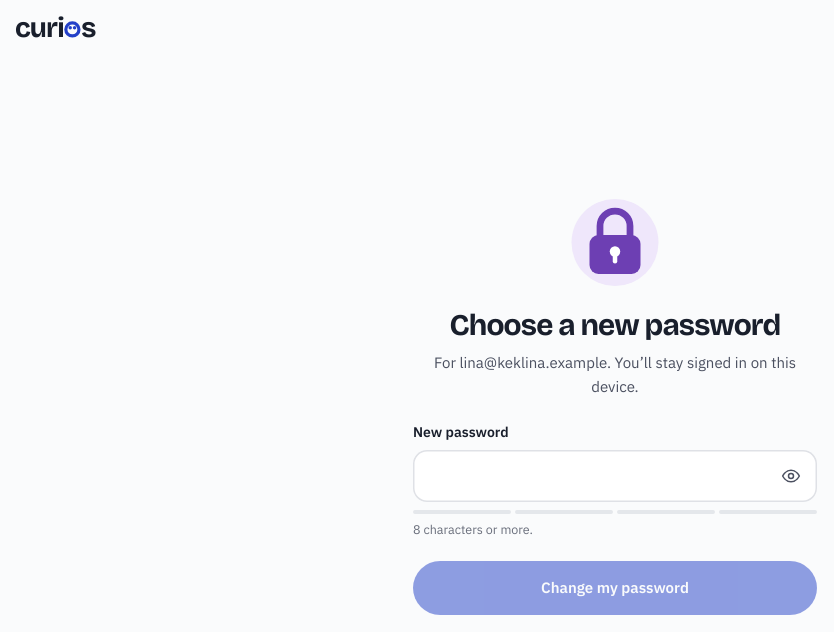
Test: ResetForm › confirms, and goes straight to the page
The width and height of the screenshot is (834, 632).
Type "a-long-enough-passphrase" into the password field labelled "New password" at (600, 476), box top-left (429, 452), bottom-right (771, 500)
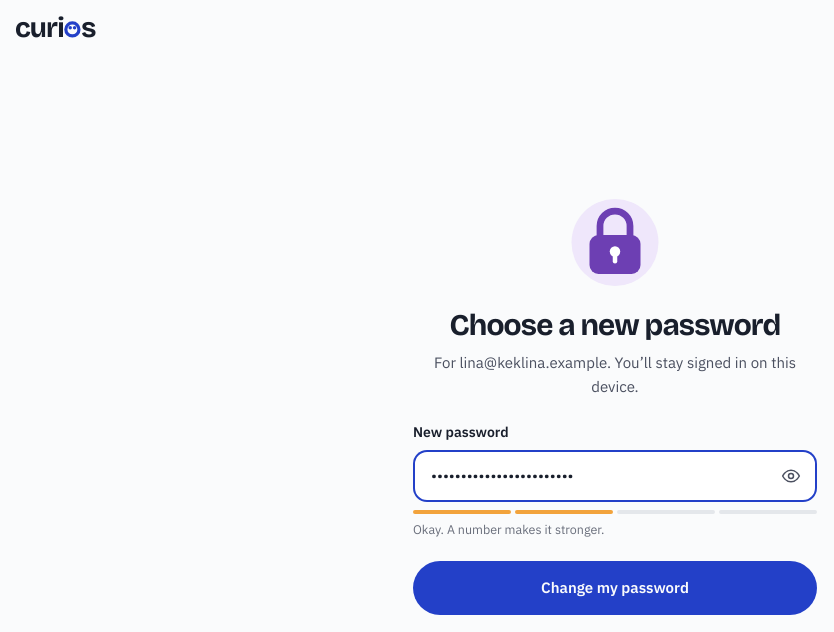
Click the button "Change my password" at (615, 588), box top-left (413, 561), bottom-right (817, 615)
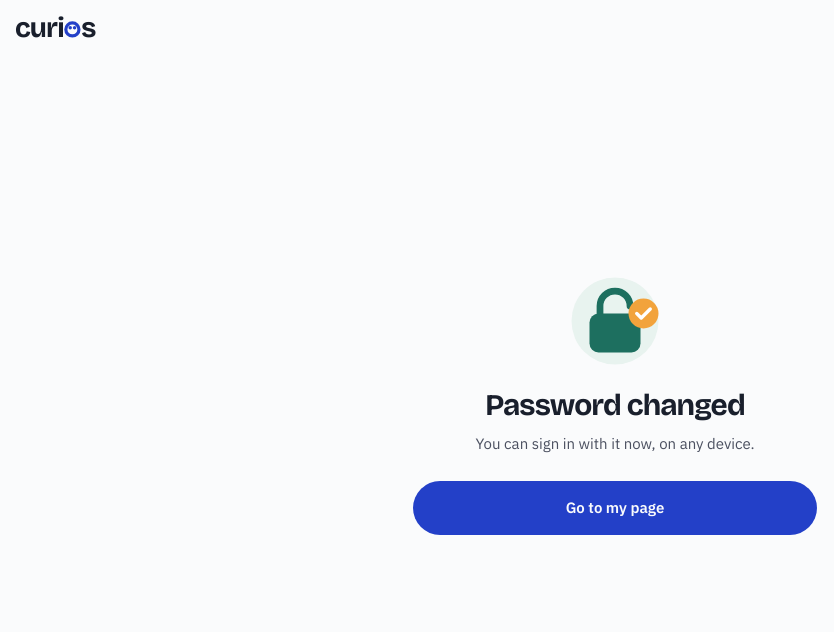
Expected: the heading "Password changed" is shown, top-left (485, 387), bottom-right (745, 423)
Expected: the text "You can sign in with it now, on any device." is shown, top-left (476, 434), bottom-right (755, 453)
